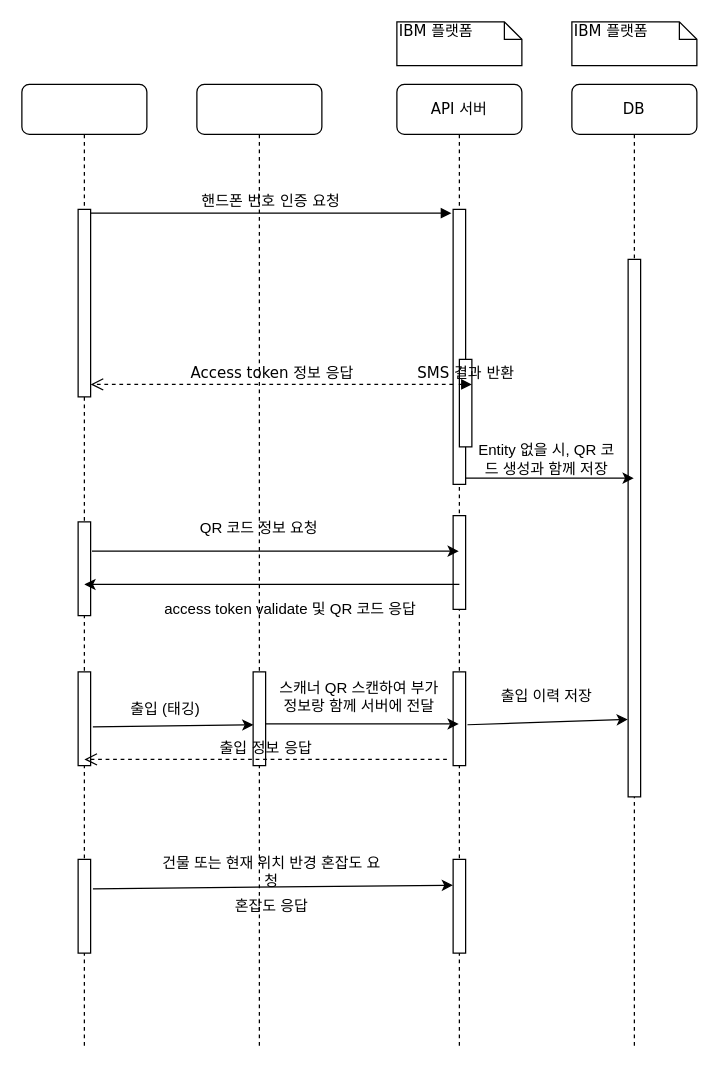
Some shapes in this 719 by 1069 pixel diagram are drawn without their labels. The box of each missing label's shape, as (x1, y1, x2, y2) in pixels:
클라이언트 (일반): (21, 83, 147, 1047)
클라이언트(스캐너): (196, 83, 322, 1047)
